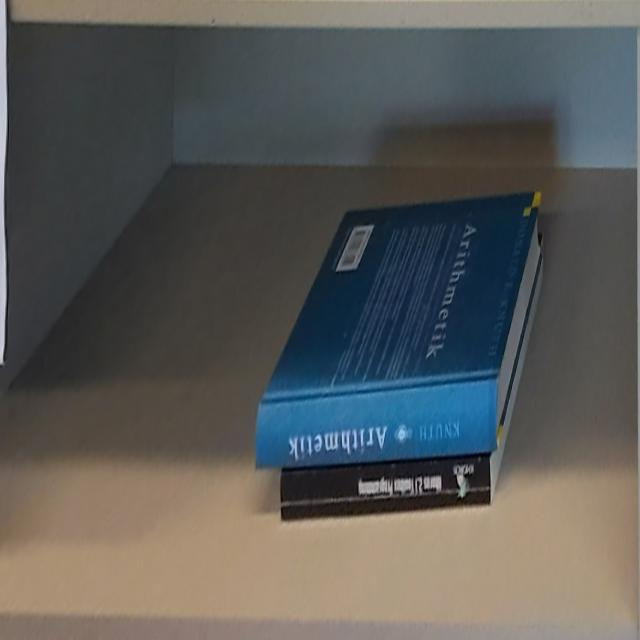Book Spine: (256, 381, 501, 465), (279, 457, 490, 522)
